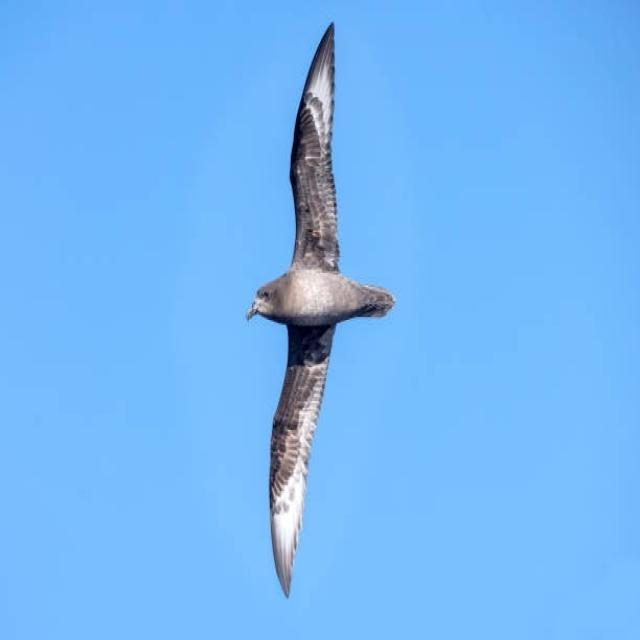delfin: (246, 24, 393, 595)
